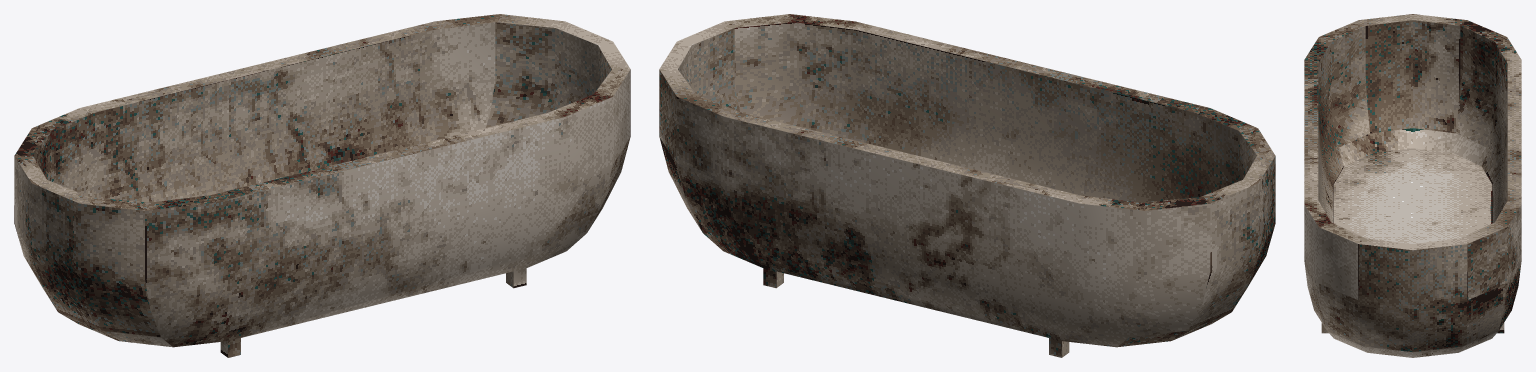
File: bathtub.glb
3 views of the same model, side by side, from view 1: azimuth 30°, elevation 25°; view 2: azimuth 150°, elevation 25°; view 3: azimuth 270°, elevation 25° (orthographic). The views are drawn at different scales.
Visible parts, largest first — view 1: bathtub-col; view 2: bathtub-col; view 3: bathtub-col.
Part boxes in pixels (x1,y1,x2,y2): bathtub-col: (14,14,630,357); bathtub-col: (659,14,1275,357); bathtub-col: (1304,14,1521,357).
Bounding box in the file's own units: 1.8 × 0.5 × 0.7.
1 material, 1 textured.
